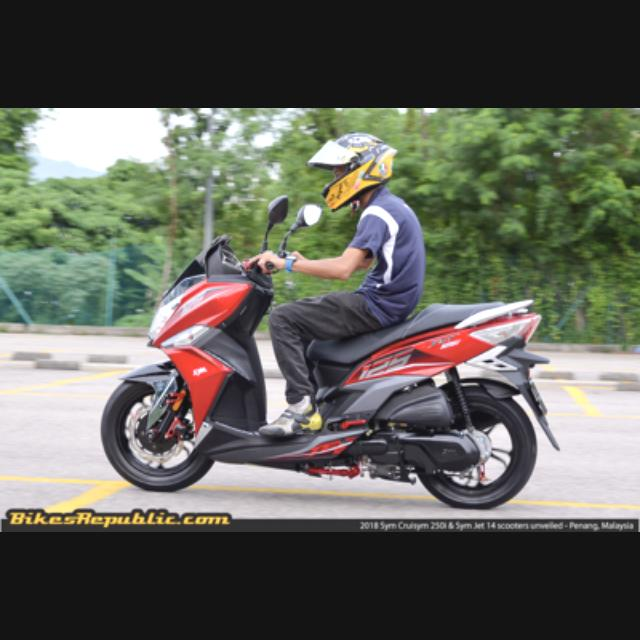With Helmet: (306, 122, 398, 214)
